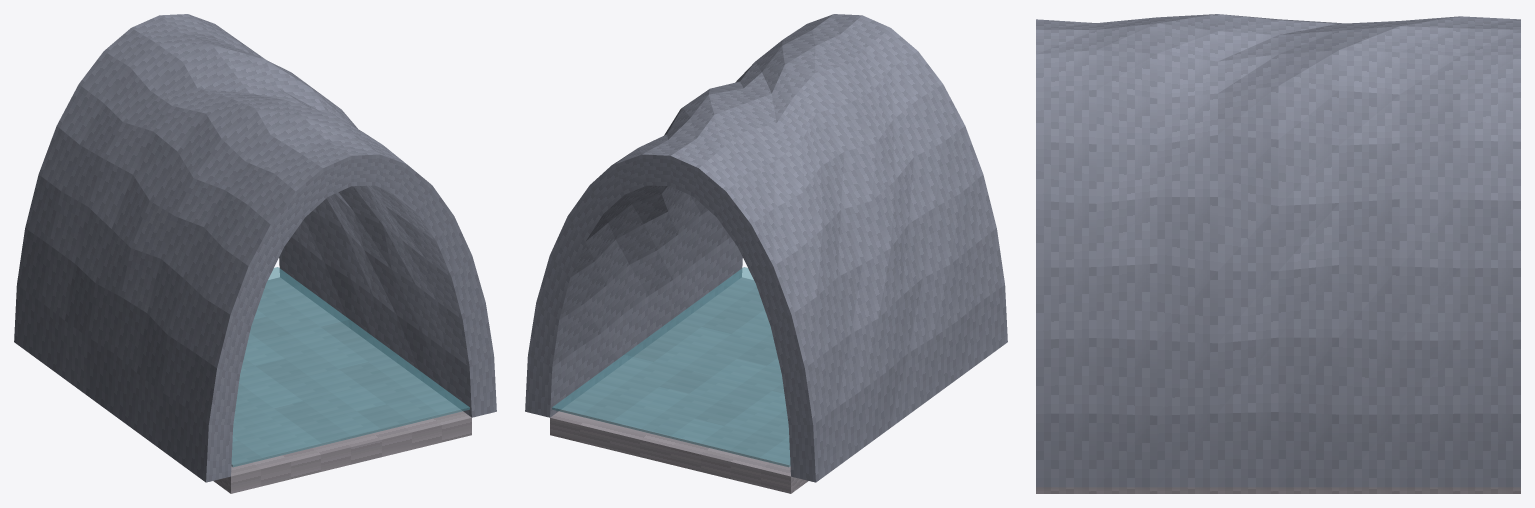
The model's file is cave-and-crystal-networks-flooded-straight-7dd56a3e.glb.
3 views of the same model, side by side, from view 1: azimuth 30°, elevation 25°; view 2: azimuth 150°, elevation 25°; view 3: azimuth 270°, elevation 25° (orthographic). The views are drawn at different scales.
Visible parts, largest first — view 1: flooded-straight; view 2: flooded-straight; view 3: flooded-straight.
Boxes of the visible parts, x1,y1,x2,y2 form: flooded-straight: (14,14,496,493); flooded-straight: (525,14,1007,493); flooded-straight: (1036,14,1520,493).
Bounding box in the file's own units: 3.5 × 3.61 × 4.
Materials: 3 (3 with a texture image).
